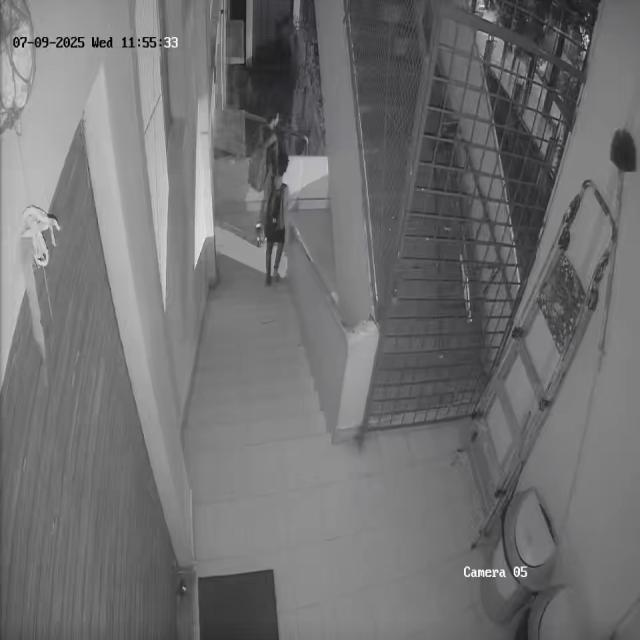person: (261, 153, 297, 286)
